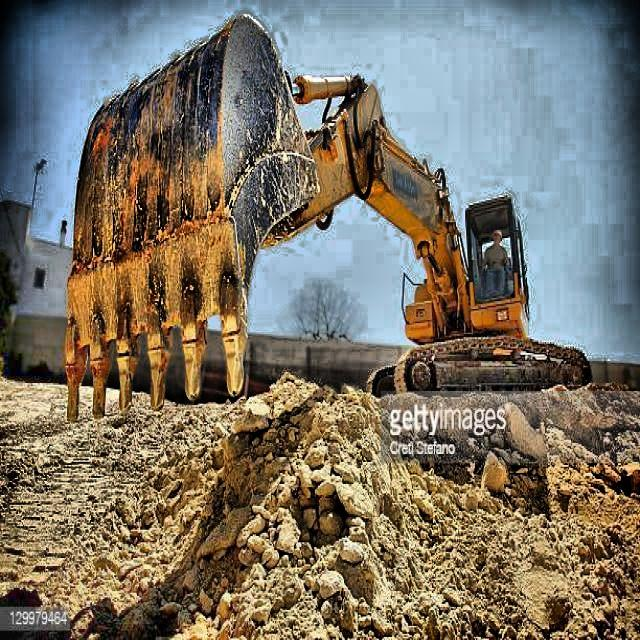excavator: (58, 13, 592, 426)
